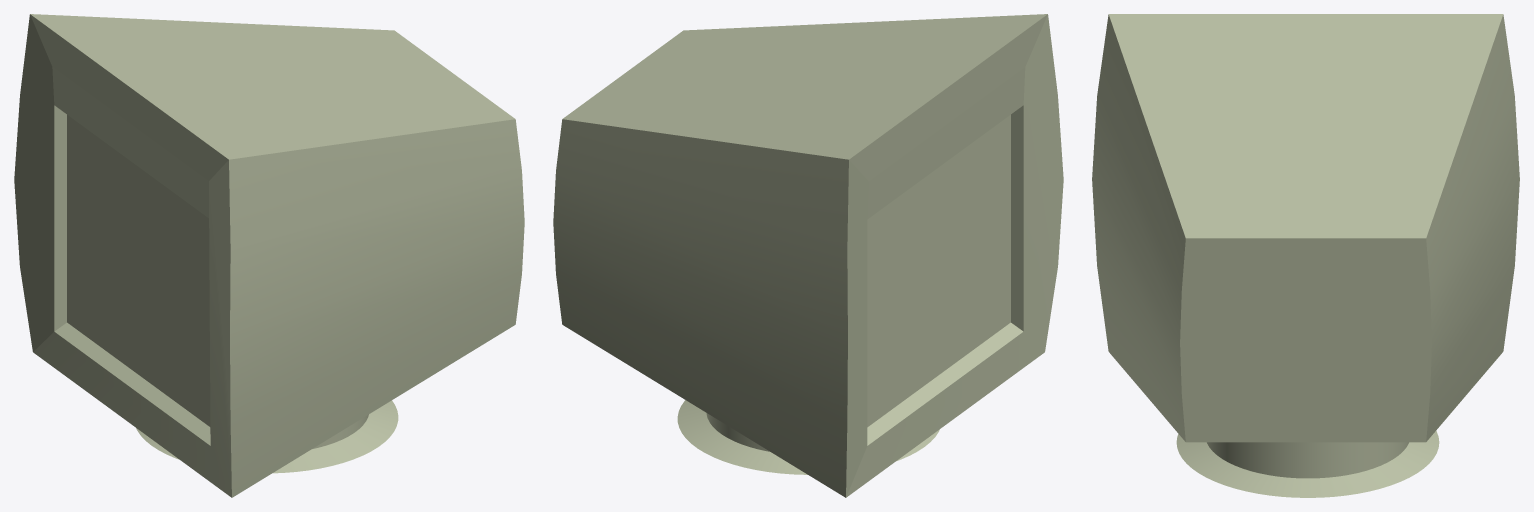
The model's file is CRTfix.fbx.
The picture shows the model from 3 angles, left to right: view 1: azimuth 30°, elevation 25°; view 2: azimuth 150°, elevation 25°; view 3: azimuth 270°, elevation 25°; orthographic projection.
Visible parts, largest first — view 1: CRT; view 2: CRT; view 3: CRT.
Part boxes in pixels (x1,y1,x2,y2): CRT: (14,14,524,497); CRT: (553,14,1063,497); CRT: (1092,14,1519,497).
Bounding box in the file's own units: 42.14 × 43.32 × 46.42.
